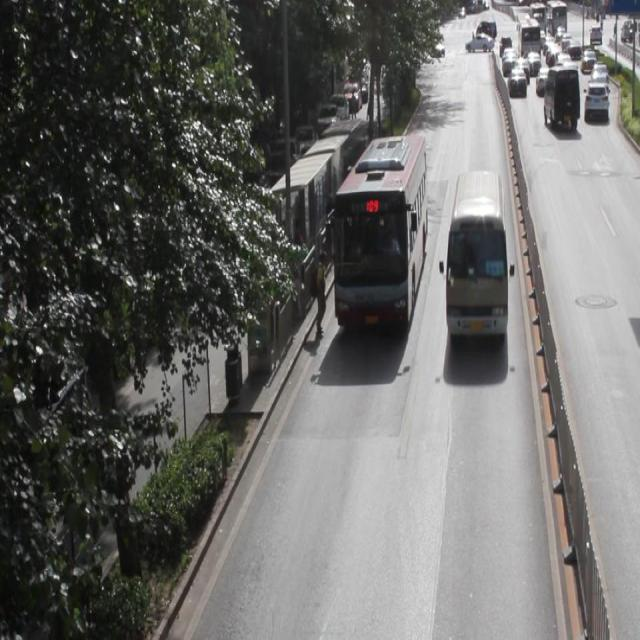truck: (443, 170, 508, 335)
van: (334, 136, 425, 325)
